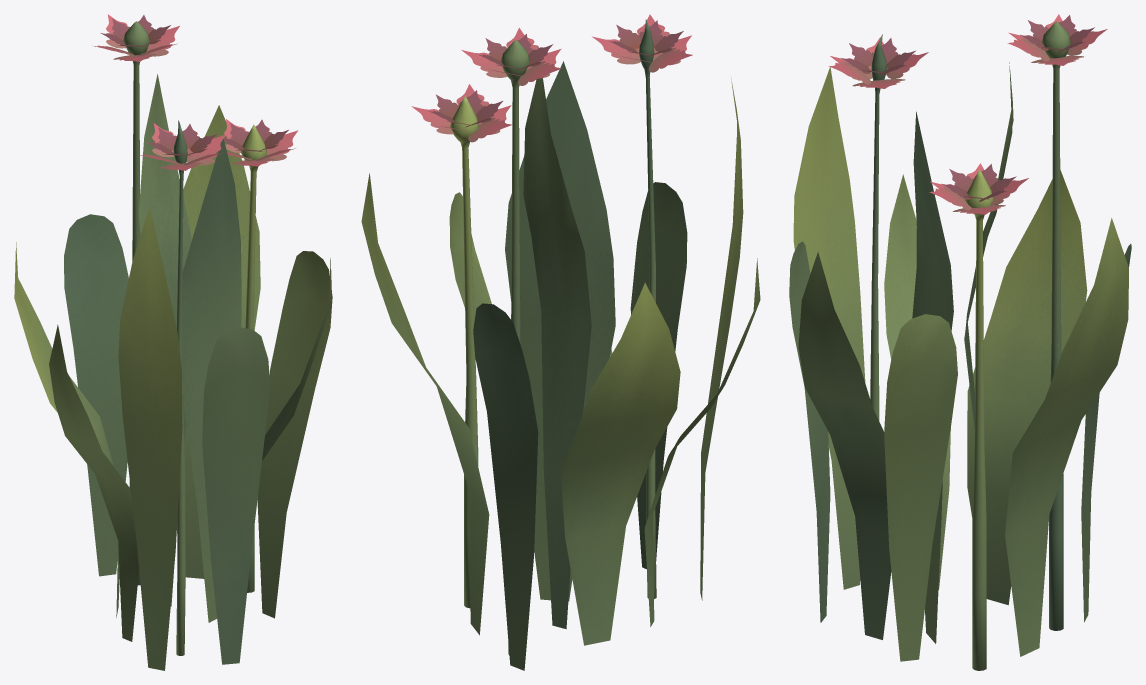
The model's file is flowerS3.fbx.
3 renders of one model, left to right at view 1: azimuth 30°, elevation 25°; view 2: azimuth 150°, elevation 25°; view 3: azimuth 270°, elevation 25°, orthographic. The views are drawn at different scales.
Visible parts, largest first — view 1: CLUMP, big petal group.002, big petal group.001, big petal group, small petal group.002, small petal group, small petal group.001; view 2: CLUMP, big petal group.002, big petal group.001, big petal group, small petal group.002, small petal group, small petal group.001; view 3: CLUMP, big petal group.002, big petal group.001, big petal group, small petal group.002, small petal group, small petal group.001.
Boxes of the visible parts, <box> form: CLUMP: <box>14,21,332,670</box>; big petal group.002: <box>139,123,226,170</box>; big petal group.001: <box>92,14,179,61</box>; big petal group: <box>217,119,298,166</box>; small petal group.002: <box>146,124,216,155</box>; small petal group: <box>223,119,288,151</box>; small petal group.001: <box>100,15,170,46</box>; CLUMP: <box>361,19,760,670</box>; big petal group.002: <box>592,14,692,72</box>; big petal group.001: <box>461,27,562,85</box>; big petal group: <box>411,84,511,142</box>; small petal group.002: <box>609,20,683,57</box>; small petal group: <box>428,90,502,127</box>; small petal group.001: <box>478,34,553,70</box>; CLUMP: <box>789,21,1131,670</box>; big petal group.002: <box>828,37,928,88</box>; big petal group.001: <box>1007,14,1107,65</box>; big petal group: <box>929,163,1028,214</box>; small petal group.002: <box>841,38,915,75</box>; small petal group: <box>941,164,1016,201</box>; small petal group.001: <box>1020,15,1094,52</box>.
Size of the model in its own units: 48.31 by 92.13 by 47.15.
